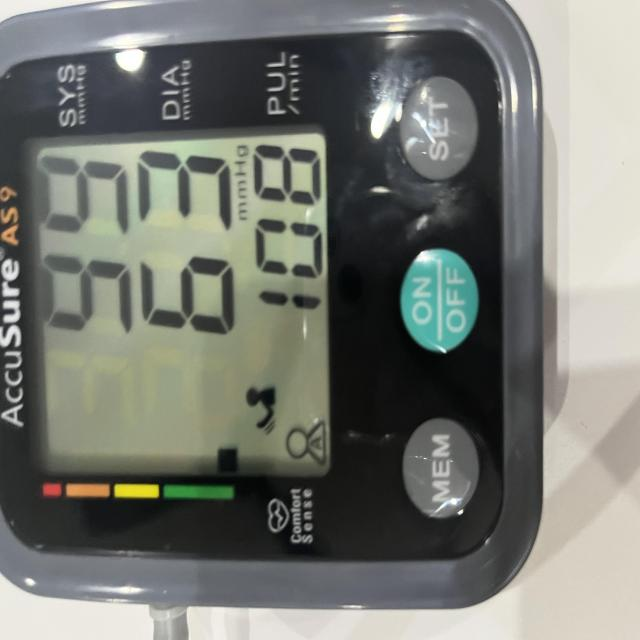bp: (0, 0, 549, 616), (0, 0, 549, 615)
